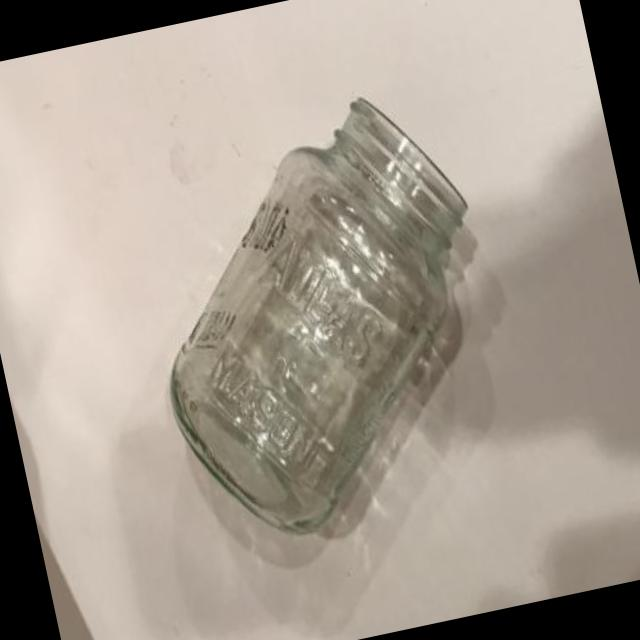chai_thuy_tinh: (171, 97, 468, 531)
